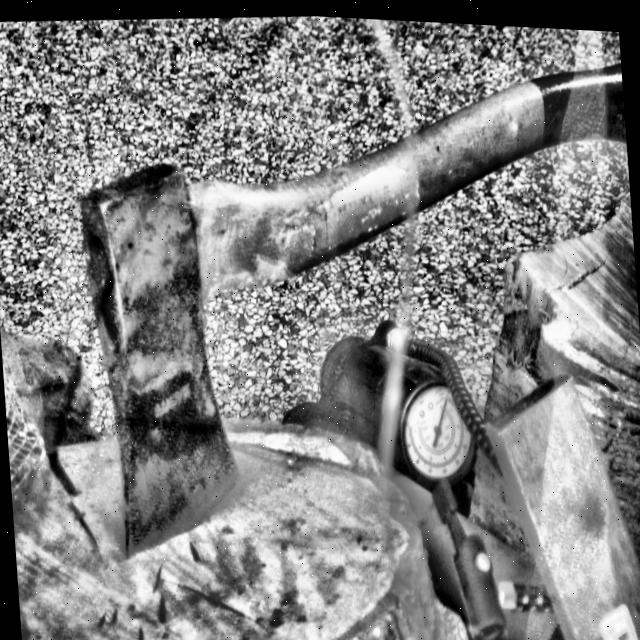kapak: (66, 53, 627, 564)
